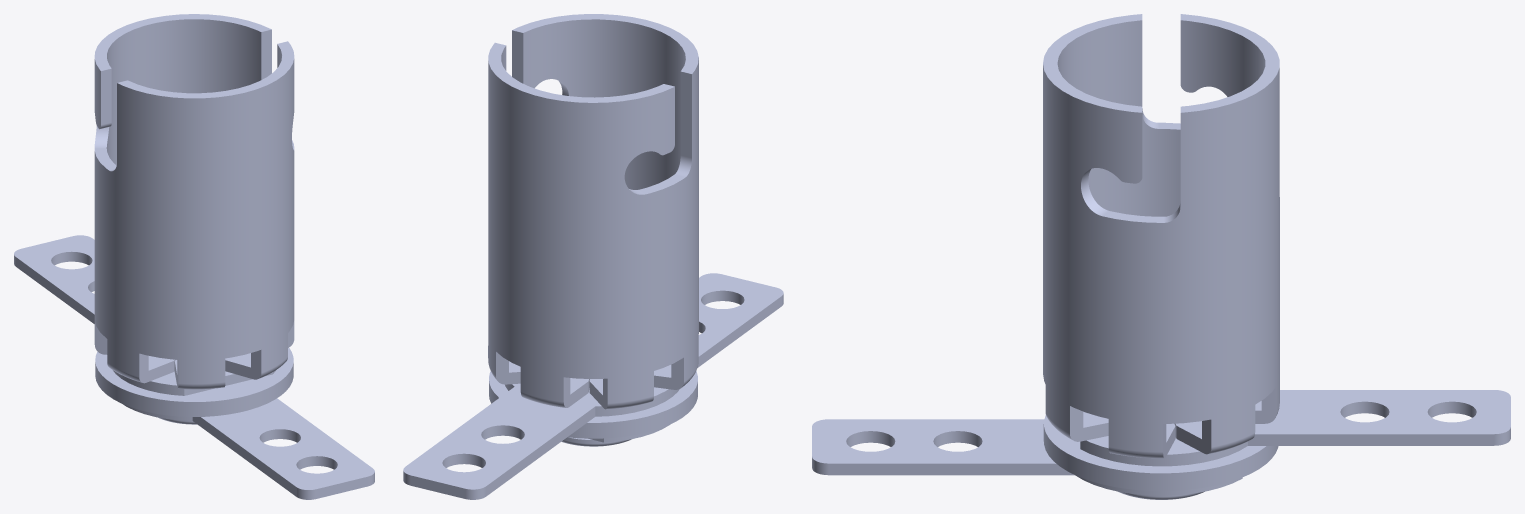
File: Lamp Socket 44, Staple Down (F1P-E-12-07-00).fbx
3 views of the same model, side by side, from view 1: azimuth 30°, elevation 25°; view 2: azimuth 150°, elevation 25°; view 3: azimuth 270°, elevation 25° (orthographic). The views are drawn at different scales.
Visible parts, largest first — view 1: 44 Socket base, 44 Flat Tab (×2), Fiber washer; view 2: 44 Socket base, 44 Flat Tab (×2), Fiber washer; view 3: 44 Socket base, 44 Flat Tab (×2), Fiber washer.
Boxes of the visible parts, box(x1,y1,x2,y2) form: 44 Socket base: box(94, 14, 294, 389); 44 Flat Tab (×2): box(14, 235, 374, 499); Fiber washer: box(95, 348, 293, 416); 44 Socket base: box(488, 14, 698, 409); 44 Flat Tab (×2): box(403, 273, 783, 499); Fiber washer: box(489, 371, 697, 438); 44 Socket base: box(1043, 14, 1279, 458); 44 Flat Tab (×2): box(812, 390, 1510, 495); Fiber washer: box(1043, 415, 1278, 490).
Bounding box in the file's own units: 1.08 × 2.11 × 3.18.
